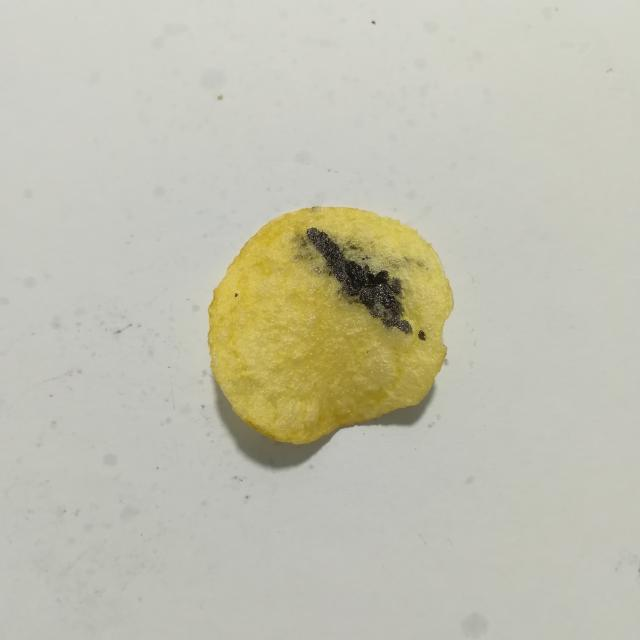chip: (208, 207, 453, 444)
damaged: (307, 228, 412, 334), (418, 330, 426, 340), (234, 293, 238, 297)
semi-damaged: (329, 231, 409, 278), (296, 234, 332, 276)
